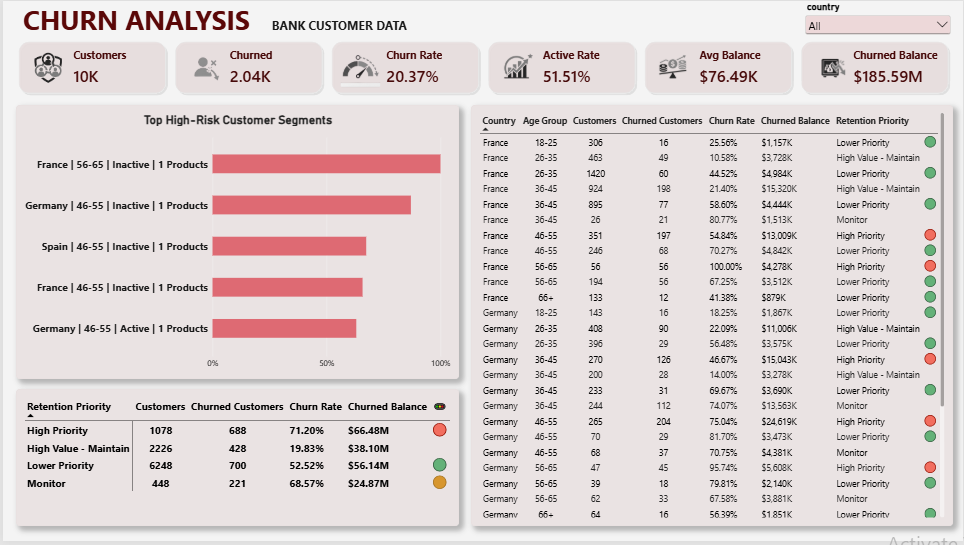

Layout of this report page (visuals, bound fields, positions):
{"tool":"powerbi","page":{"name":"Retention Opportunities","canvas":[1920,1080],"ordinal":1},"visuals":[{"type":"clusteredBarChart","title":"Top High-Risk Customer Segments ","fields":{"Y":["Avg(RetentionSegments.Churn Rate)"],"Category":["RetentionSegments.Segment"]},"box":[26,208,886,548],"z":0},{"type":"pivotTable","fields":{"Rows":["RetentionSegments.Retention Priority"],"Values":["Sum(RetentionSegments.Total Customers)","Sum(RetentionSegments.Churned Customers)","Avg(RetentionSegments.Churn Rate)","Sum(RetentionSegments.Churned Balance)","Min(RetentionSegments.Retention Priority)"]},"box":[26,776,886,274],"z":1000},{"type":"tableEx","fields":{"Values":["RetentionSegments.country","RetentionSegments.age_group","Sum(RetentionSegments.Total Customers)","Sum(RetentionSegments.Churned Customers)","Avg(RetentionSegments.Churn Rate)","Sum(RetentionSegments.Churned Balance)","RetentionSegments.Retention Priority"]},"box":[936,208,964,842],"z":2000},{"type":"cardVisual","fields":{"Data":["_Measure.Total Customers","_Measure.Churned Customers","_Measure.Churn Rate","_Measure.Active Rate","_Measure.Avg Balance","_Measure.Churned Balance"]},"box":[26,76,1874,114],"z":2001},{"type":"textbox","box":[40,0,824,76],"z":2002},{"type":"slicer","fields":{"Values":["RetentionSegments.country"]},"box":[1600,0,300,76],"z":2003}]}

Visuals, with their boxes in screenshot pixels (x1, y1, x2, y2), scaled from the page's 1920x1080 canvas onto the 964x545 screenshot:
"Top High-Risk Customer Segments " clusteredBarChart: {"x1": 13, "y1": 105, "x2": 458, "y2": 382}
pivotTable - RetentionSegments.Retention Priority x Sum(RetentionSegments.Total Customers): {"x1": 13, "y1": 392, "x2": 458, "y2": 530}
tableEx - RetentionSegments.country x RetentionSegments.age_group: {"x1": 470, "y1": 105, "x2": 954, "y2": 530}
cardVisual - _Measure.Total Customers x _Measure.Churned Customers: {"x1": 13, "y1": 38, "x2": 954, "y2": 96}
textbox: {"x1": 20, "y1": 0, "x2": 434, "y2": 38}
slicer - RetentionSegments.country: {"x1": 803, "y1": 0, "x2": 954, "y2": 38}
